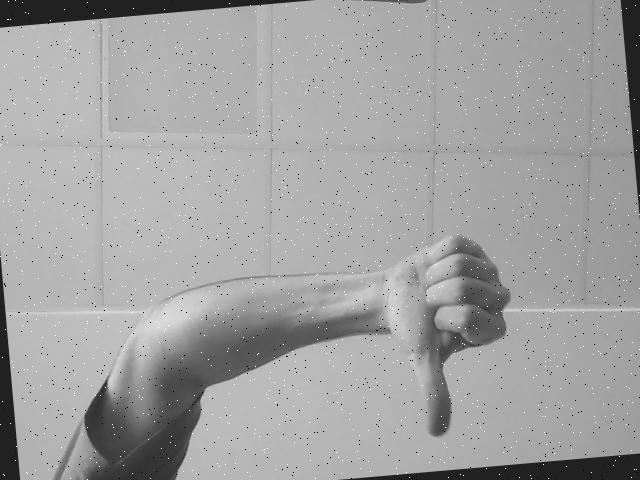bad: (351, 208, 568, 454)
